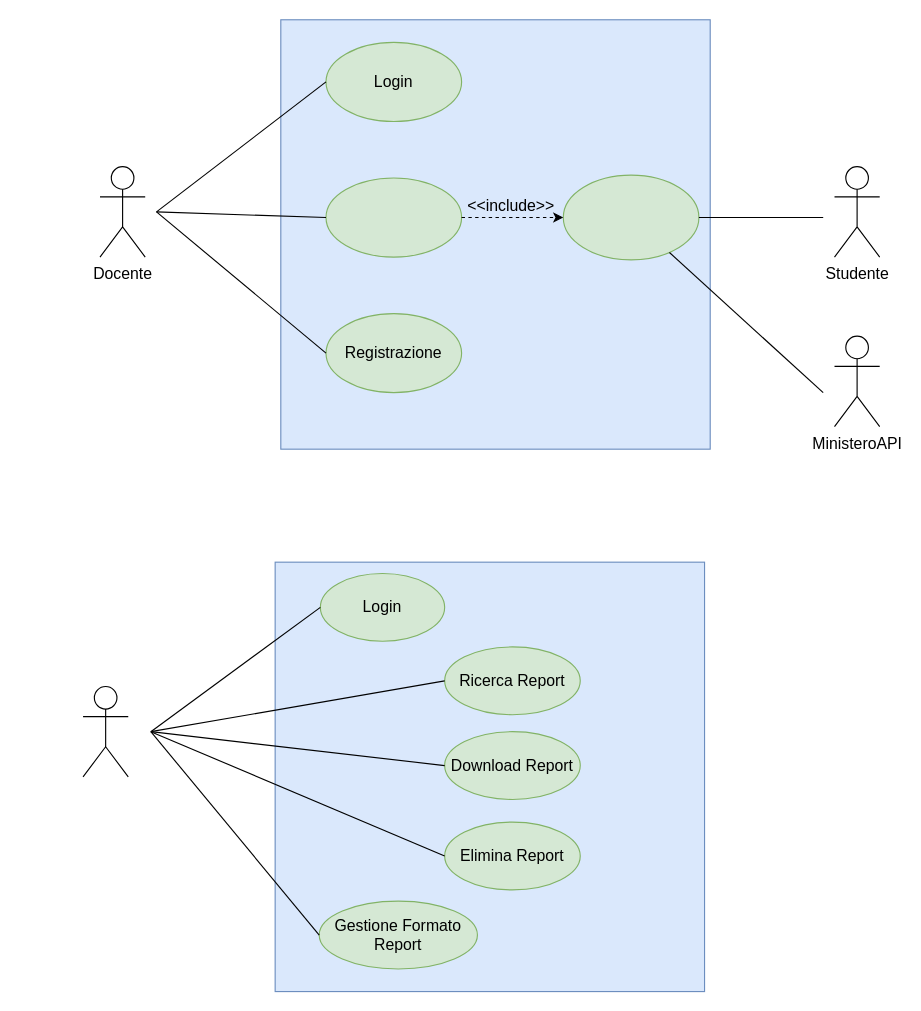
This 921x1011 diagram has some shape labels left out. Here are the shapes that lost their labels. From the top down, the centre of each, then its label:
At (x=393, y=217): "Svolgimento Sessione".
At (x=630, y=217): "Invio Green Pass".
At (x=105, y=731): "Direttore di Dipartimento".
